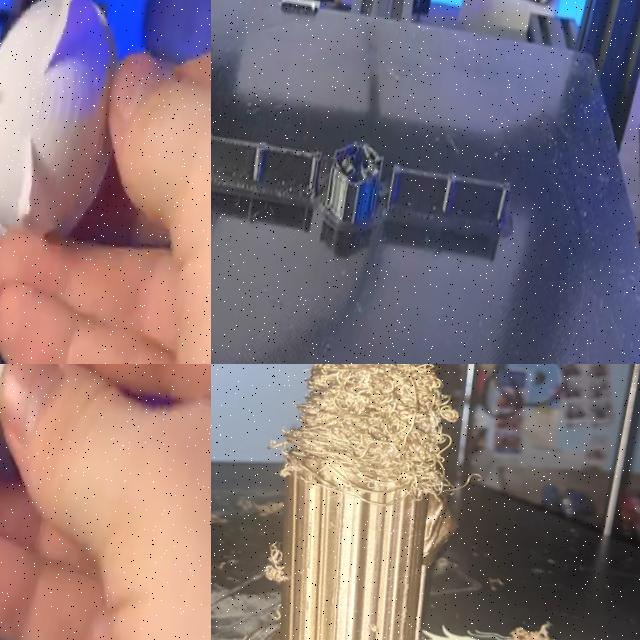spaghetti: (269, 364, 458, 504)
